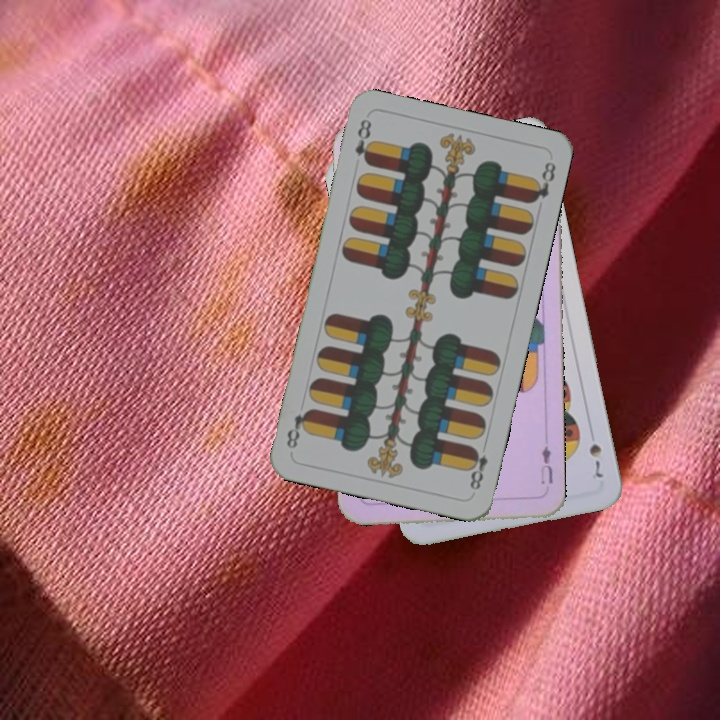E8: (464, 438, 491, 493), (350, 114, 376, 167)
EU: (536, 441, 556, 486)
S7: (585, 439, 606, 481)
